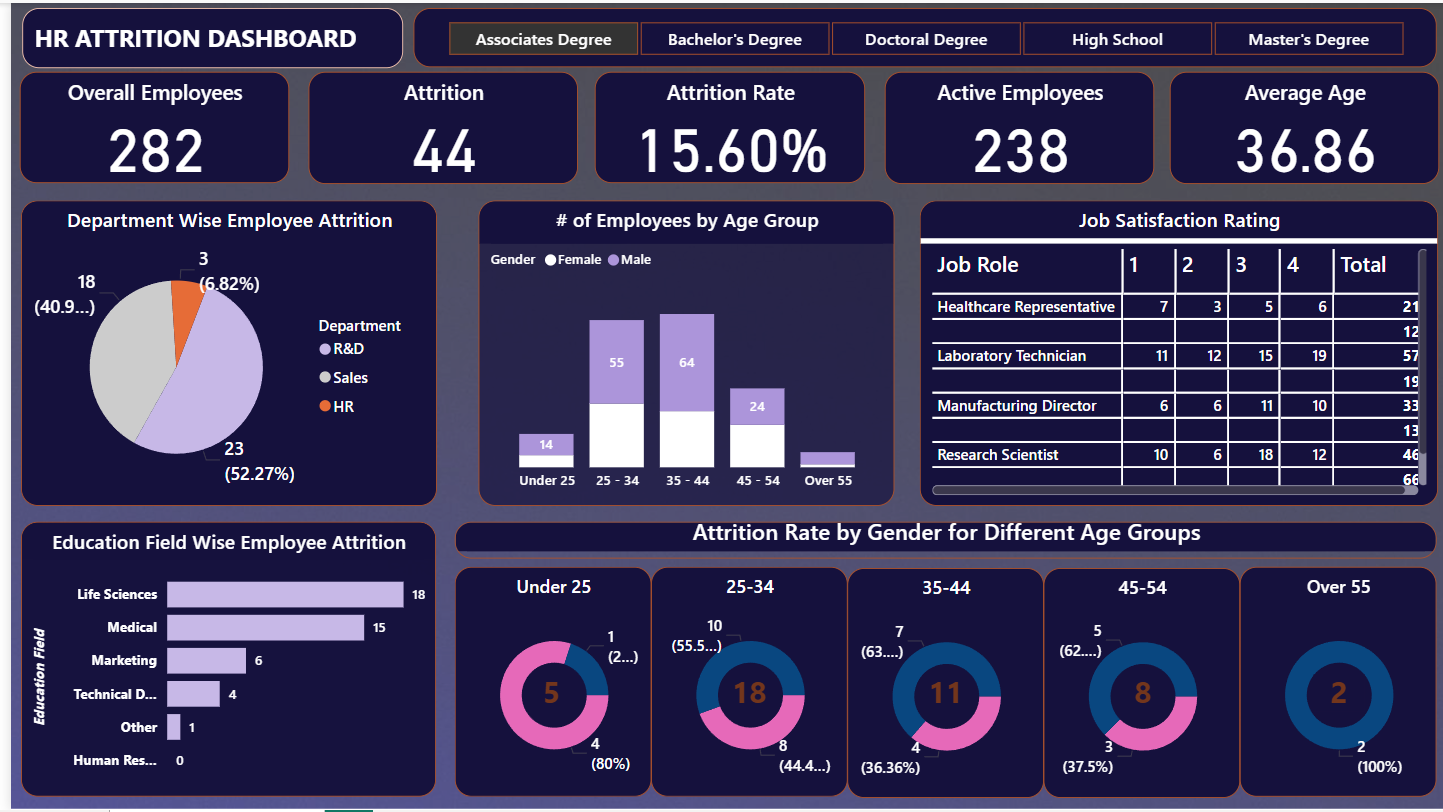

What the dashboard file says about the page in this screenshot:
{"tool":"powerbi","page":{"name":"HR Analytics Dashboard","canvas":[1280,720],"ordinal":0},"visuals":[{"type":"card","title":"Overall Employees","fields":{"Values":["Sum(HR data.Employee Count)"]},"box":[8.3,61.5,239.9,99.1],"z":0},{"type":"card","title":"Attrition ","fields":{"Values":["Sum(HR data.Attrition Count)"]},"box":[264.9,61.5,239.9,100.1],"z":1000},{"type":"card","title":"Attrition Rate","fields":{"Values":["HR data.Attrition Rate"]},"box":[520.4,61.5,240.9,99.1],"z":2000},{"type":"card","title":"Active Employees","fields":{"Values":["HR data.Active employees"]},"box":[778,61.5,239.9,100.1],"z":3000},{"type":"card","title":"Average Age","fields":{"Values":["Avg(HR data.Age)"]},"box":[1031.4,61.5,239.9,100.1],"z":4000},{"type":"pieChart","title":"Department Wise Employee Attrition","fields":{"Category":["HR data.Department"],"Y":["Sum(HR data.Attrition Count)"]},"box":[8.4,175.8,370.2,272.1],"z":5000},{"type":"columnChart","title":"# of Employees by Age Group","fields":{"Category":["HR data.CF_age band"],"Series":["HR data.Gender"],"Y":["Sum(HR data.Employee Count)"]},"box":[407.6,175.8,370.2,272.1],"z":6000},{"type":"pivotTable","title":"Job Satisfaction Rating","fields":{"Columns":["HR data.Job Satisfaction"],"Rows":["HR data.Job Role"],"Values":["Sum(HR data.Employee Count)"]},"box":[809.6,175.8,461.8,272.1],"z":7000},{"type":"barChart","title":"Education Field Wise Employee Attrition","fields":{"Category":["HR data.Education Field"],"Y":["Sum(HR data.Attrition Count)"]},"box":[9.3,461.8,369.3,244.9],"z":8000},{"type":"donutChart","title":"Under 25","fields":{"Category":["HR data.Gender"],"Series":["HR data.CF_age band"],"Y":["Sum(HR data.Attrition Count)"]},"box":[395.5,502,174.8,204.7],"z":9000},{"type":"textbox","title":"Attrition Rate by Gender for Different Age Groups","box":[395.5,461.8,874.1,32.7],"z":10000},{"type":"donutChart","title":"25-34","fields":{"Category":["HR data.Gender"],"Series":["HR data.CF_age band"],"Y":["Sum(HR data.Attrition Count)"]},"box":[570.3,502,174.8,204.7],"z":11000},{"type":"donutChart","title":"35-44","fields":{"Category":["HR data.Gender"],"Series":["HR data.CF_age band"],"Y":["Sum(HR data.Attrition Count)"]},"box":[745.1,503,174.8,204.7],"z":12000},{"type":"donutChart","title":"45-54","fields":{"Category":["HR data.Gender"],"Series":["HR data.CF_age band"],"Y":["Sum(HR data.Attrition Count)"]},"box":[919.9,503,174.8,204.7],"z":13000},{"type":"donutChart","title":"Over 55","fields":{"Category":["HR data.Gender"],"Series":["HR data.CF_age band"],"Y":["Sum(HR data.Attrition Count)"]},"box":[1094.8,502,174.8,204.7],"z":14000},{"type":"card","fields":{"Values":["Sum(HR data.Attrition Count)"]},"box":[459,597.4,45.8,33.7],"z":15000},{"type":"card","fields":{"Values":["Sum(HR data.Attrition Count)"]},"box":[628.8,597.5,57.4,33.4],"z":16000},{"type":"card","fields":{"Values":["Sum(HR data.Attrition Count)"]},"box":[806.1,597.5,53.2,33.4],"z":17000},{"type":"card","fields":{"Values":["Sum(HR data.Attrition Count)"]},"box":[985.4,597.4,45.8,33.7],"z":18000},{"type":"card","fields":{"Values":["Sum(HR data.Attrition Count)"]},"box":[1160.2,597.4,45.8,33.7],"z":19000},{"type":"textbox","box":[9.6,4.1,338.9,53.5],"z":20000},{"type":"slicer","fields":{"Values":["HR data.Education"]},"box":[358.7,4.2,911.4,53],"z":21000}]}

Visuals, with their boxes in screenshot pixels (x1, y1, x2, y2), scaled from the page's 1280x720 canvas onto the 1443x812 screenshot:
"Overall Employees" card: (left=9, top=69, right=280, bottom=181)
"Attrition " card: (left=299, top=69, right=569, bottom=182)
"Attrition Rate" card: (left=587, top=69, right=858, bottom=181)
"Active Employees" card: (left=877, top=69, right=1148, bottom=182)
"Average Age" card: (left=1163, top=69, right=1433, bottom=182)
"Department Wise Employee Attrition" pieChart: (left=9, top=198, right=427, bottom=505)
"# of Employees by Age Group" columnChart: (left=460, top=198, right=877, bottom=505)
"Job Satisfaction Rating" pivotTable: (left=913, top=198, right=1433, bottom=505)
"Education Field Wise Employee Attrition" barChart: (left=10, top=521, right=427, bottom=797)
"Under 25" donutChart: (left=446, top=566, right=643, bottom=797)
"Attrition Rate by Gender for Different Age Groups" textbox: (left=446, top=521, right=1431, bottom=558)
"25-34" donutChart: (left=643, top=566, right=840, bottom=797)
"35-44" donutChart: (left=840, top=567, right=1037, bottom=798)
"45-54" donutChart: (left=1037, top=567, right=1234, bottom=798)
"Over 55" donutChart: (left=1234, top=566, right=1431, bottom=797)
card - Sum(HR data.Attrition Count): (left=517, top=674, right=569, bottom=712)
card - Sum(HR data.Attrition Count): (left=709, top=674, right=774, bottom=712)
card - Sum(HR data.Attrition Count): (left=909, top=674, right=969, bottom=712)
card - Sum(HR data.Attrition Count): (left=1111, top=674, right=1163, bottom=712)
card - Sum(HR data.Attrition Count): (left=1308, top=674, right=1360, bottom=712)
textbox: (left=11, top=5, right=393, bottom=65)
slicer - HR data.Education: (left=404, top=5, right=1432, bottom=65)
